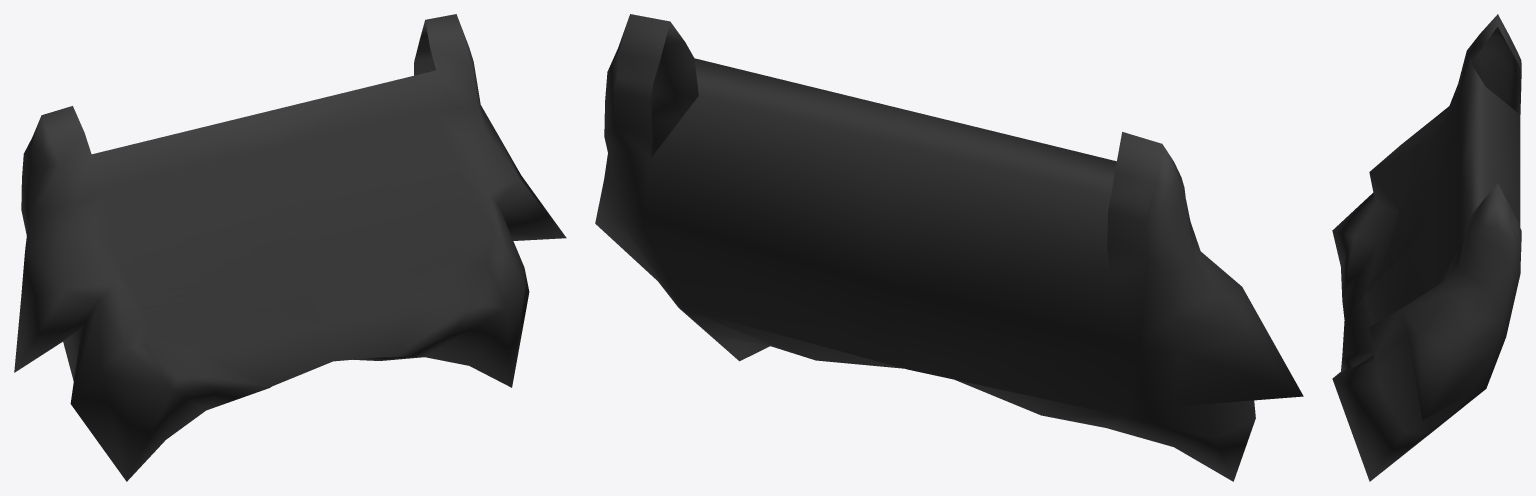
Rendered from Beard_Black_11.fbx.
3 views of the same model, side by side, from view 1: azimuth 30°, elevation 25°; view 2: azimuth 150°, elevation 25°; view 3: azimuth 270°, elevation 25° (orthographic). The views are drawn at different scales.
Visible parts, largest first — view 1: Beard_Black_11; view 2: Beard_Black_11; view 3: Beard_Black_11.
Boxes of the visible parts, x1,y1,x2,y2 form: Beard_Black_11: (14, 14, 566, 481); Beard_Black_11: (595, 14, 1303, 481); Beard_Black_11: (1332, 14, 1521, 481).
Size of the model in its own units: 66 by 36.6 by 21.51.
